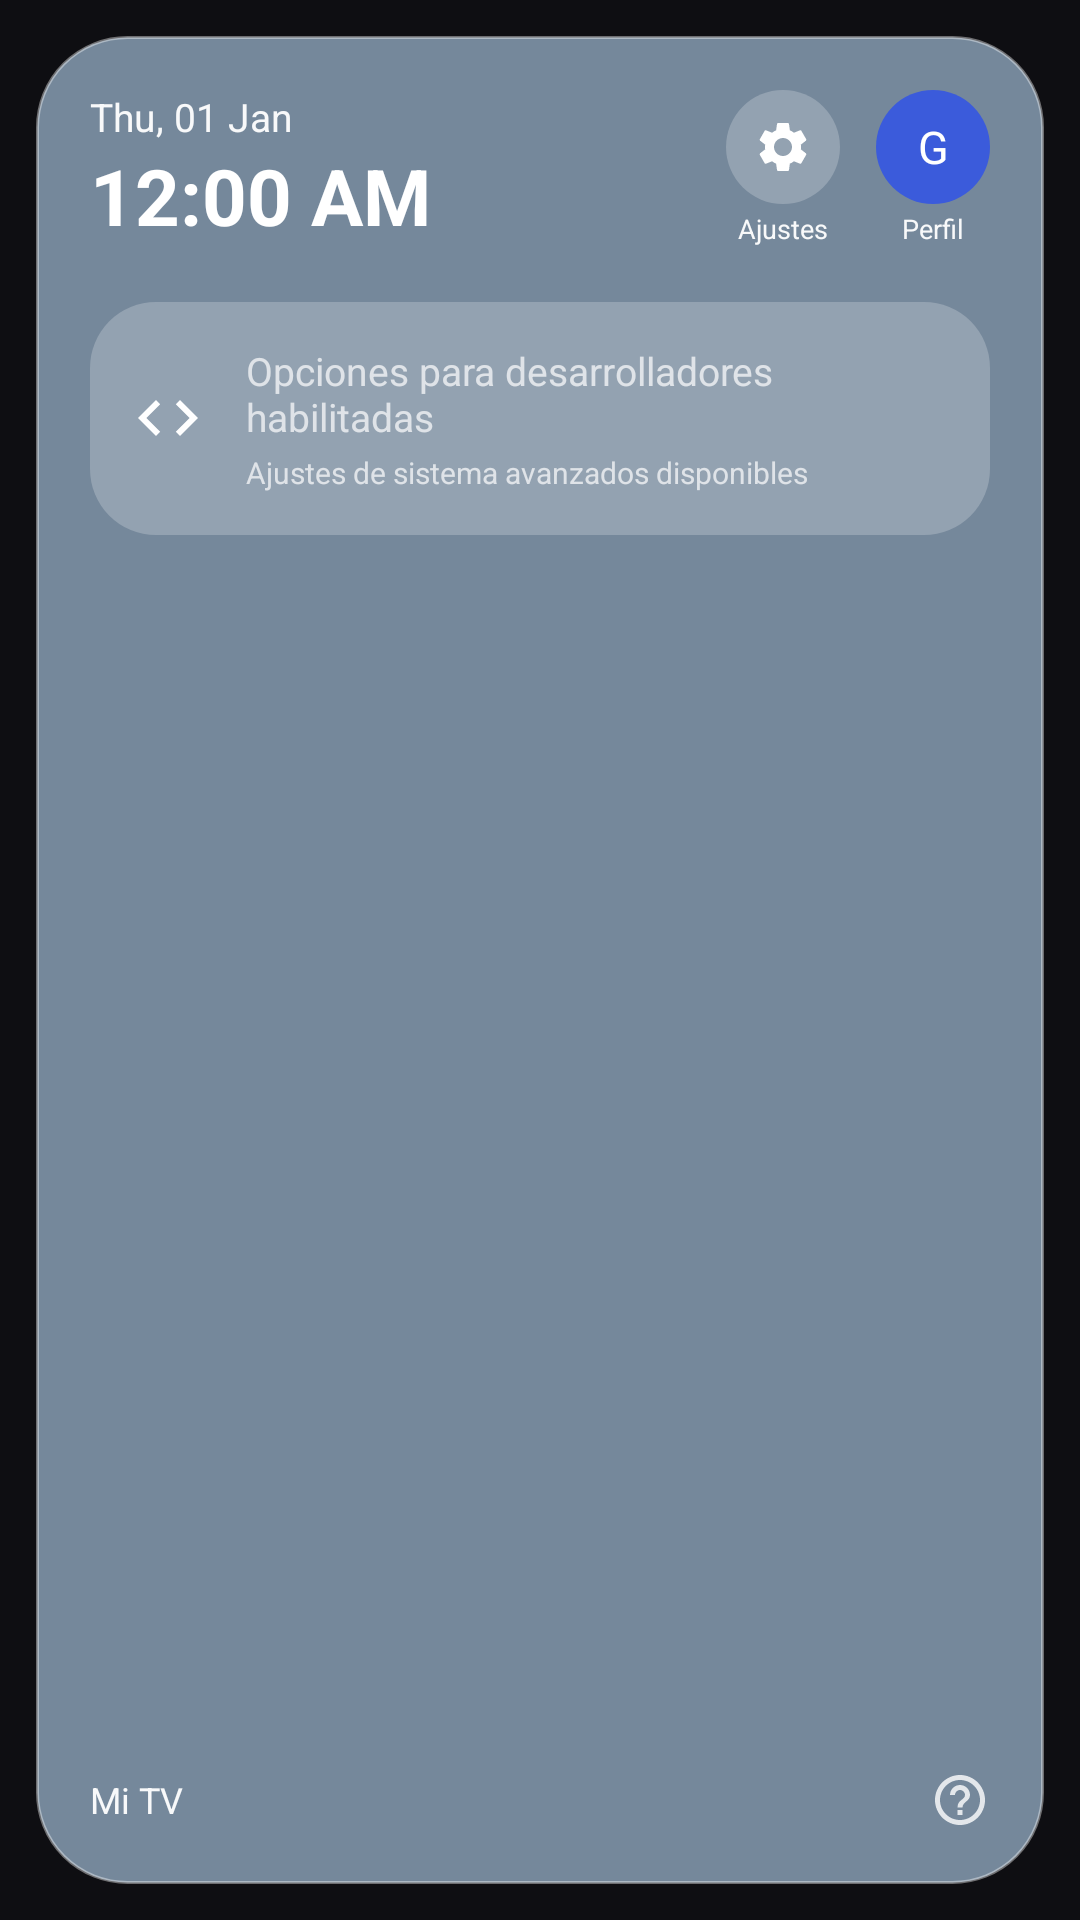

Screen size 1080×1920. Icon name, then its box in pixels as (x1, y1, x2, y2):
dev: (138, 400, 198, 436)
help: (935, 1775, 985, 1825)
